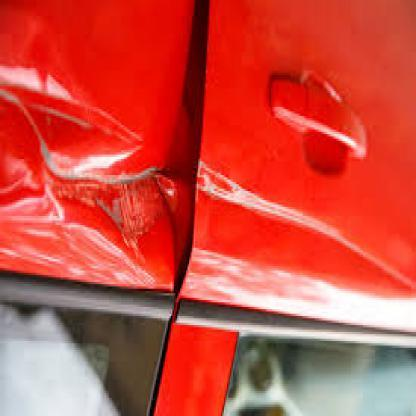dent: (9, 104, 224, 292)
